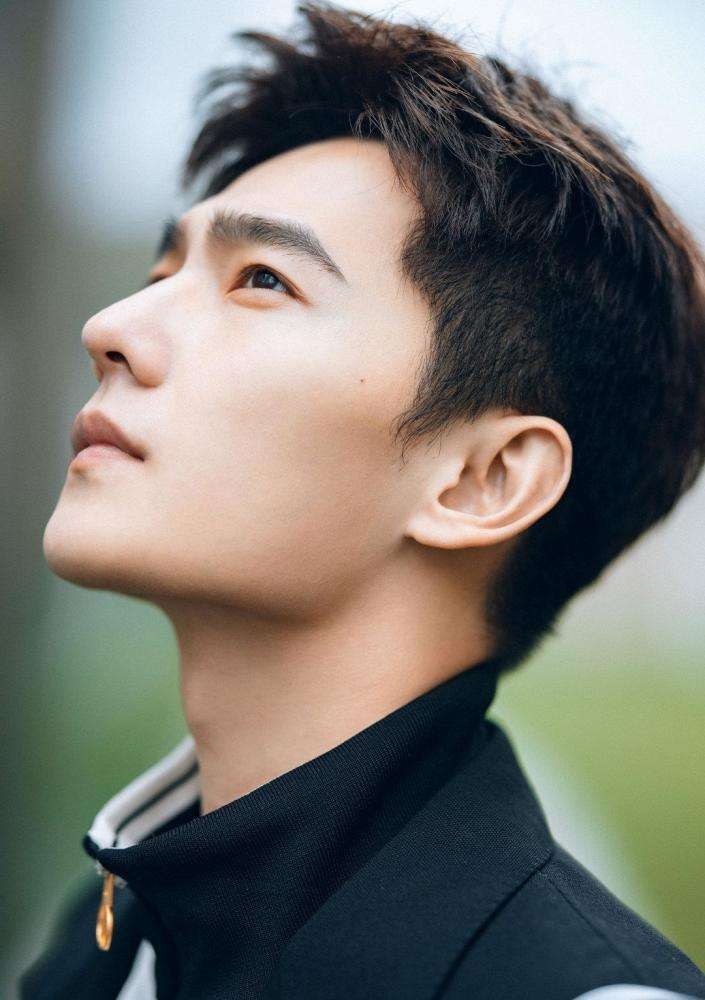person: (44, 88, 507, 726)
